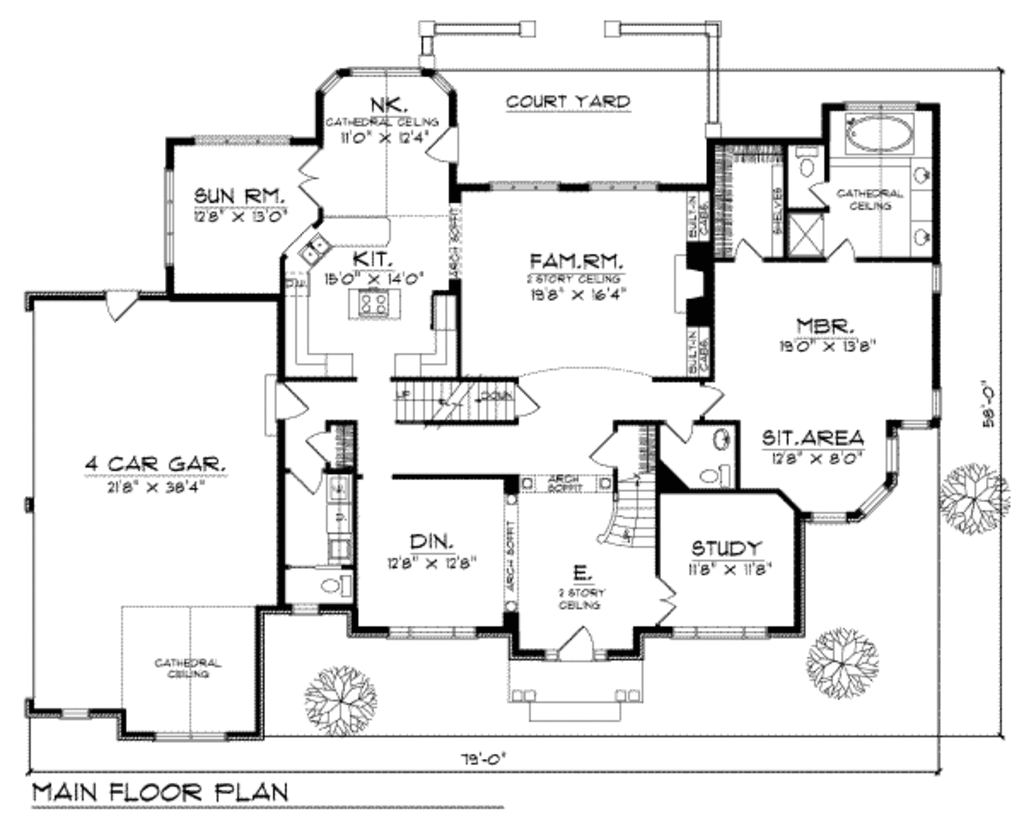door: (293, 148, 325, 216), (556, 622, 594, 666), (422, 128, 460, 170), (271, 381, 308, 424), (282, 463, 329, 494), (694, 379, 727, 415), (302, 425, 331, 465), (103, 291, 142, 319), (661, 419, 700, 443)
large_sink: (790, 144, 824, 184), (696, 460, 735, 488)
small_sink: (905, 159, 936, 252)
stairs: (598, 425, 661, 551), (392, 375, 522, 429)
tub: (845, 109, 918, 158)
twin_sink: (298, 230, 332, 266)
windows: (863, 429, 916, 521), (187, 129, 307, 153), (375, 619, 481, 643), (664, 622, 769, 643), (148, 723, 229, 748), (161, 164, 178, 271), (486, 178, 564, 200), (583, 178, 659, 196), (806, 508, 859, 532)
